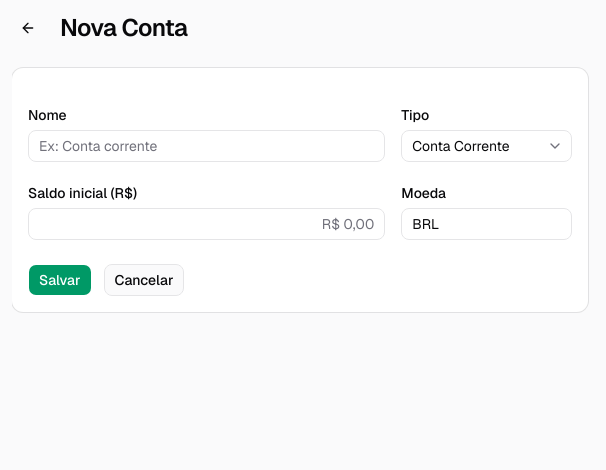
Test: NovaConta › exibe campos de cartao de credito quando tipo CARTAO_CREDITO selecionado
The image size is (606, 470).
Expected: the field labelled "limite de credito" is not shown
Expected: the field labelled "dia de fechamento" is not shown
// O select de tipo e o segundo combobox (apos o select de moeda se existir, ou o primeiro)
Click the dropdown: (487, 146) [401,130,572,162]
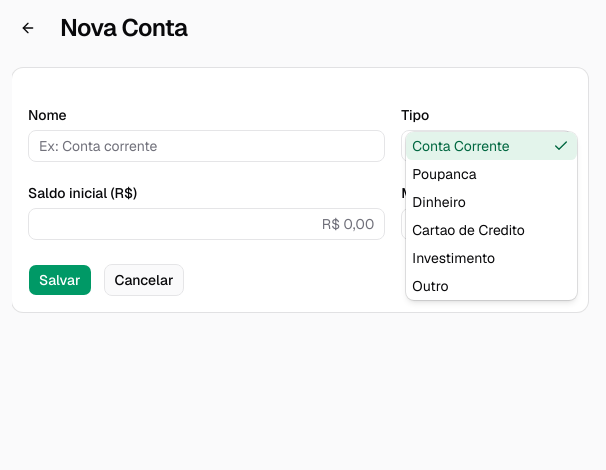
Now the text "Cartao de Credito" is shown
Click the option "Cartao de Credito": (469, 230) [412,221,525,239]
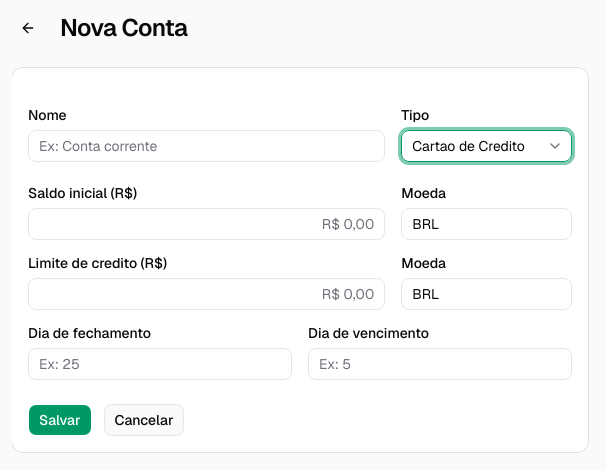
Now the field labelled "Limite de credito (R$)" is shown, box [28,278,385,310]
Now the number field labelled "Dia de fechamento" is shown, box [28,348,292,380]
Now the number field labelled "Dia de vencimento" is shown, box [308,348,572,380]
